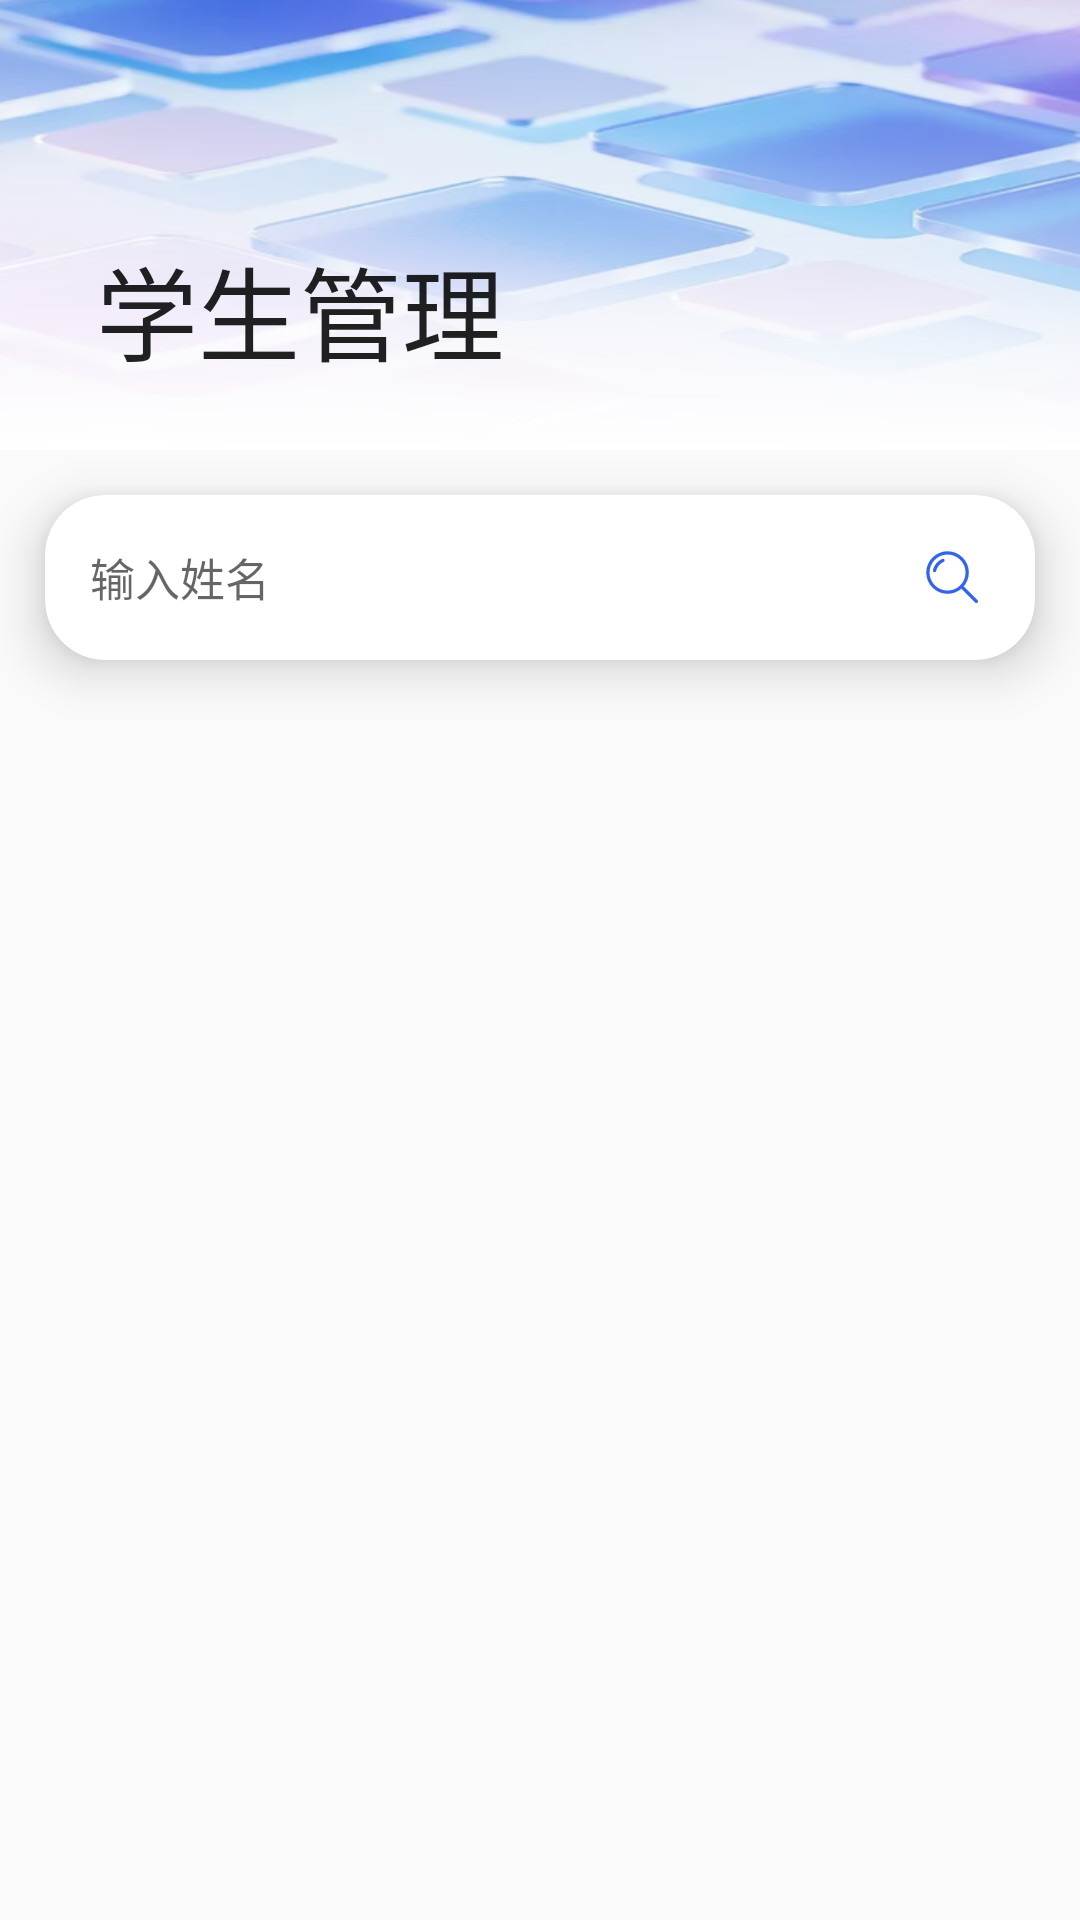

Where icons sit on this 1080*1920 app screen, as bbox(x1, y1, x2, y2):
搜索按钮: bbox(926, 551, 978, 603)
